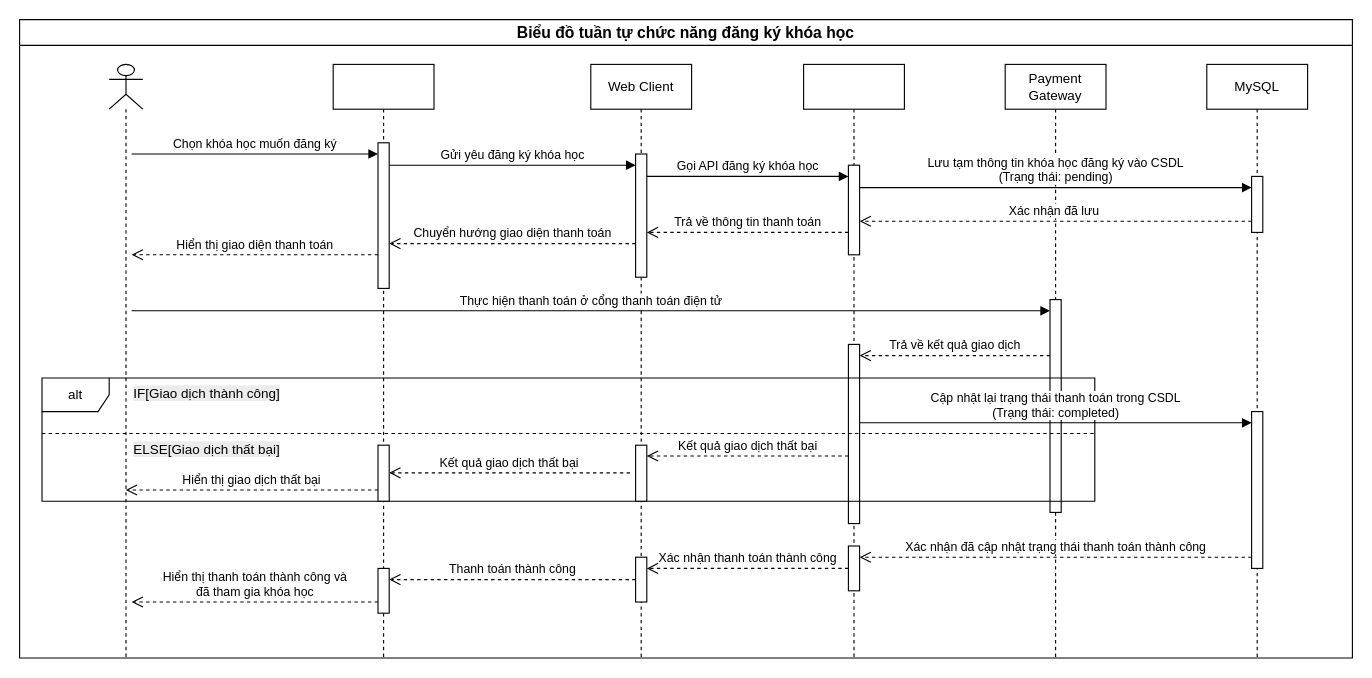
Image size: 1372x678. Some labels were removed from this diagram. The shapes that lost their labels are listed below. From the top down, each one's box as (x1, y1, x2, y2) in pixels, then its label:
(332, 63, 434, 658): Giao diện
(802, 63, 904, 658): Web API
